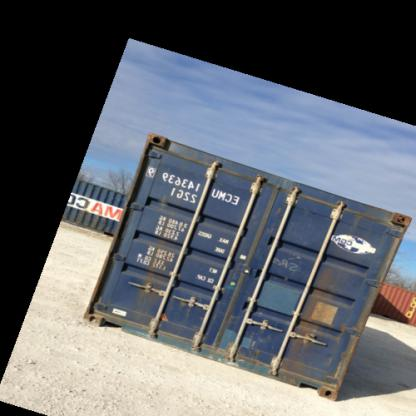Damage: (298, 290, 336, 358), (230, 328, 274, 362), (135, 264, 163, 299), (270, 252, 304, 277), (376, 209, 408, 233), (148, 133, 172, 147)
